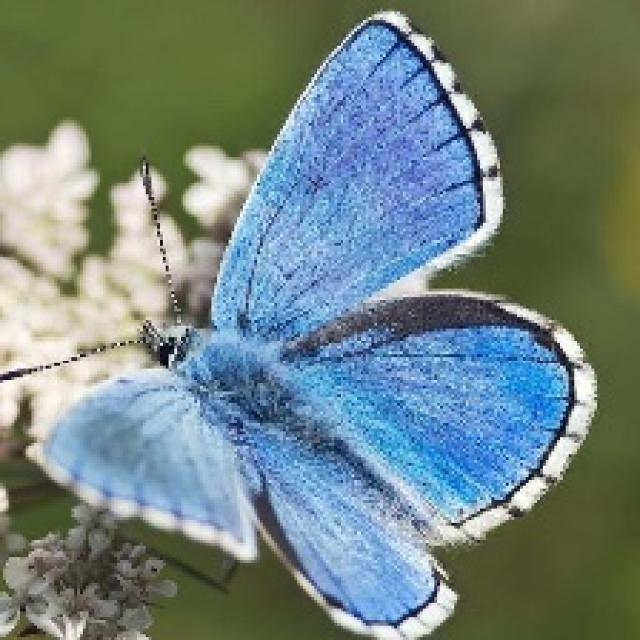butterfly: (0, 6, 597, 637)
